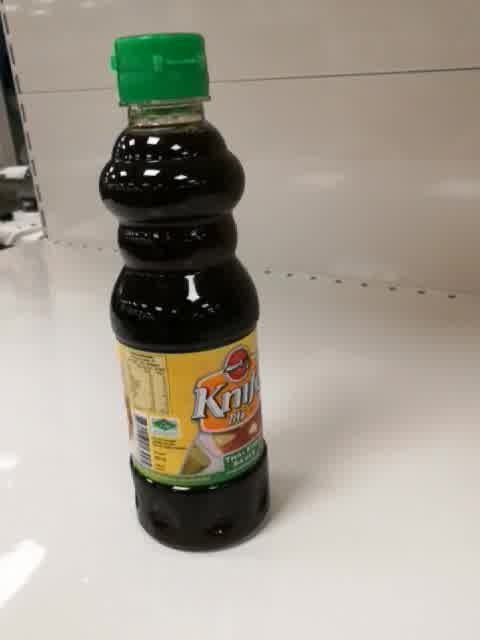cookingoil: (99, 32, 271, 556)
